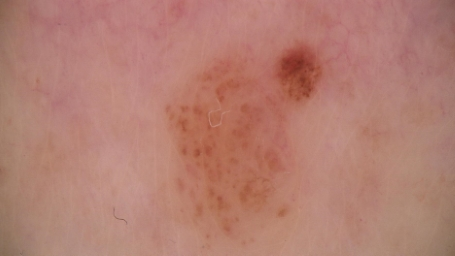melanoma: (166, 44, 291, 247), (272, 38, 329, 101)
